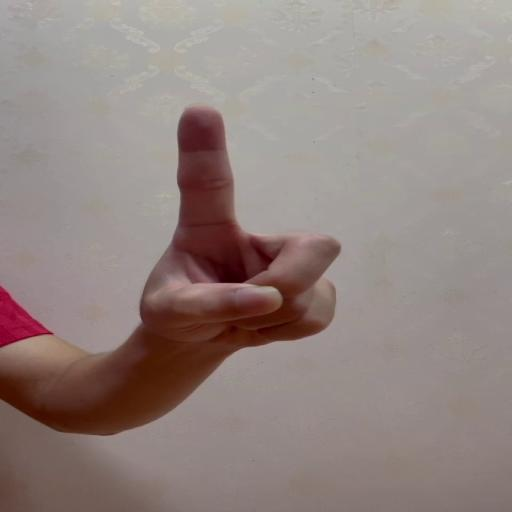point: (167, 103, 344, 359)
